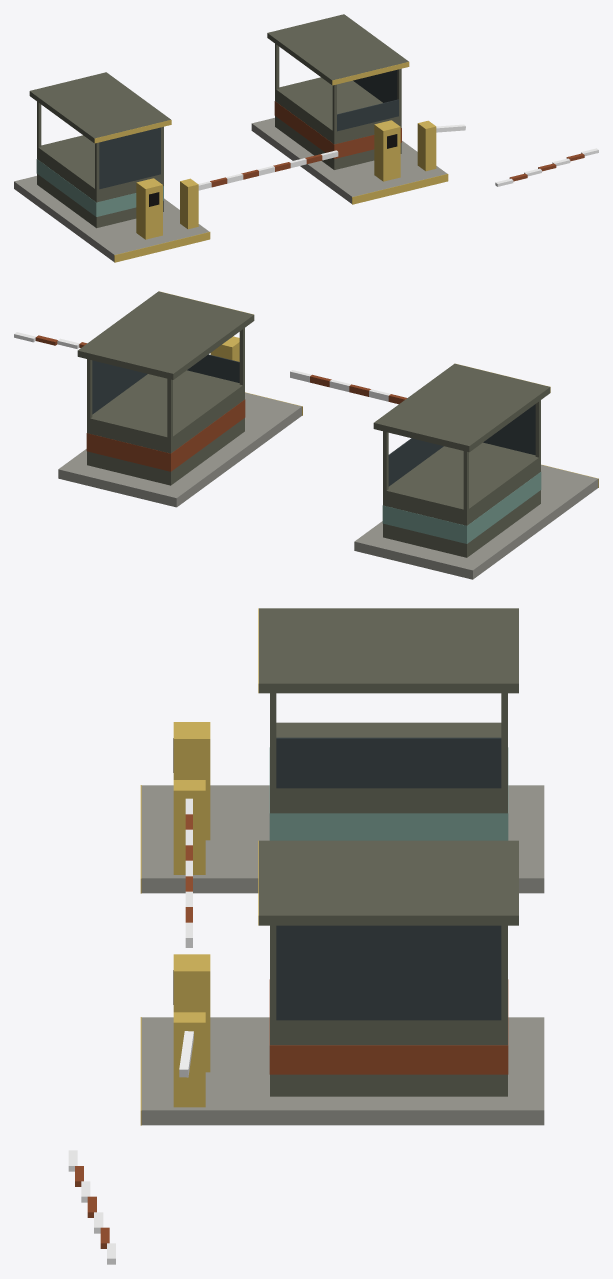
File: garage_booth.glb
The picture shows the model from 3 angles, top to bottom: view 1: azimuth 30°, elevation 25°; view 2: azimuth 150°, elevation 25°; view 3: azimuth 270°, elevation 25°; orthographic projection. The views are drawn at different scales.
Parts seen in each view (by area): view 1: garage_booth_steel, garage_booth_conc, garage_booth_must, garage_booth_glass, garage_booth_rustp, garage_booth_teal, garage_booth_white; view 2: garage_booth_steel, garage_booth_conc, garage_booth_glass, garage_booth_rustp, garage_booth_teal, garage_booth_white, garage_booth_must; view 3: garage_booth_steel, garage_booth_conc, garage_booth_glass, garage_booth_must, garage_booth_rustp, garage_booth_teal, garage_booth_white.
Boxes of the visible parts, x1,y1,x2,y2 form: garage_booth_steel: (29,14,408,228); garage_booth_conc: (14,118,447,261); garage_booth_must: (94,62,448,262); garage_booth_glass: (99,70,398,189); garage_booth_rustp: (210,101,584,187); garage_booth_teal: (36,159,163,216); garage_booth_white: (198,124,598,190); garage_booth_steel: (77,291,550,557); garage_booth_conc: (58,392,598,579); garage_booth_glass: (92,354,535,486); garage_booth_rustp: (35,335,406,471); garage_booth_teal: (382,472,541,543); garage_booth_white: (14,332,390,401); garage_booth_must: (159,291,598,487); garage_booth_steel: (259,608,518,1096); garage_booth_conc: (141,785,544,1125); garage_booth_glass: (276,737,501,1020); garage_booth_must: (140,608,258,1125); garage_booth_rustp: (75,814,508,1248); garage_booth_teal: (269,747,508,840); garage_booth_white: (68,798,193,1264).
Size of the model in its own units: 12.01 by 2.42 by 5.2.
